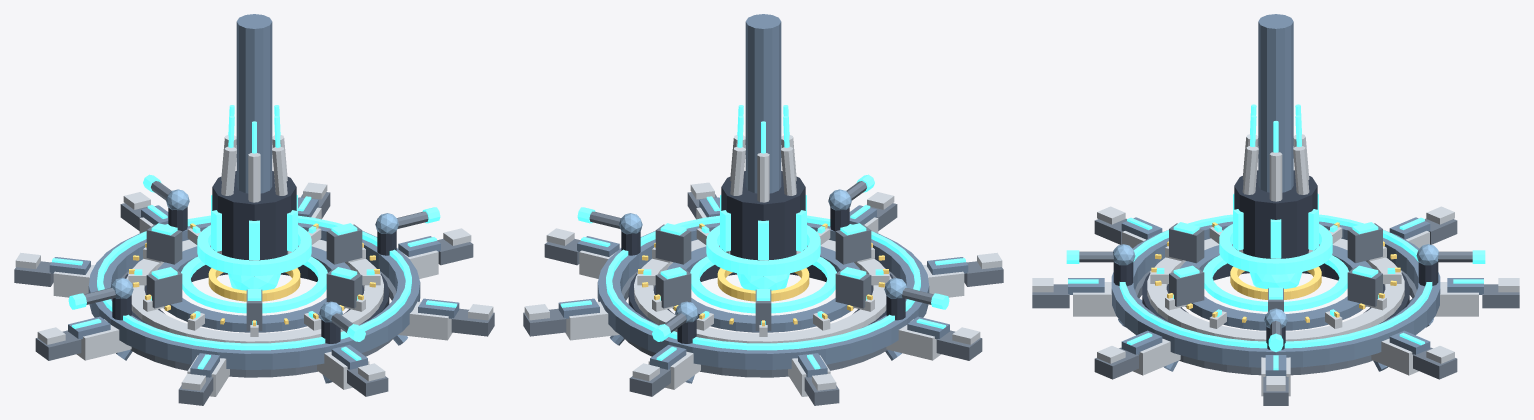
File: relay_2_earth.glb
3 renders of one model, left to right at view 1: azimuth 30°, elevation 25°; view 2: azimuth 150°, elevation 25°; view 3: azimuth 270°, elevation 25°, orthographic.
Visible parts, largest first — view 1: RLY_2, RLY_1, RLY_3, RLY_4, RLY_0, RLY_5, RLY_6; view 2: RLY_2, RLY_1, RLY_3, RLY_4, RLY_0, RLY_5, RLY_6; view 3: RLY_2, RLY_1, RLY_3, RLY_4, RLY_0, RLY_5, RLY_6.
Part boxes in pixels (x1,y1,x2,y2): RLY_2: (49, 14, 459, 383); RLY_1: (15, 135, 493, 396); RLY_3: (52, 105, 456, 369); RLY_4: (14, 181, 494, 405); RLY_0: (112, 171, 396, 343); RLY_5: (129, 223, 379, 326); RLY_6: (110, 189, 398, 322); RLY_2: (558, 14, 968, 383); RLY_1: (524, 135, 1002, 396); RLY_3: (561, 105, 965, 369); RLY_4: (523, 181, 1003, 405); RLY_0: (621, 171, 905, 343); RLY_5: (638, 223, 888, 326); RLY_6: (619, 189, 907, 322); RLY_2: (1068, 14, 1483, 377); RLY_1: (1032, 134, 1519, 396); RLY_3: (1066, 104, 1485, 370); RLY_4: (1032, 218, 1519, 405); RLY_0: (1113, 170, 1438, 349); RLY_5: (1151, 222, 1400, 322); RLY_6: (1113, 244, 1438, 328).
Size of the model in its own units: 9.92 by 6.86 by 9.92.
